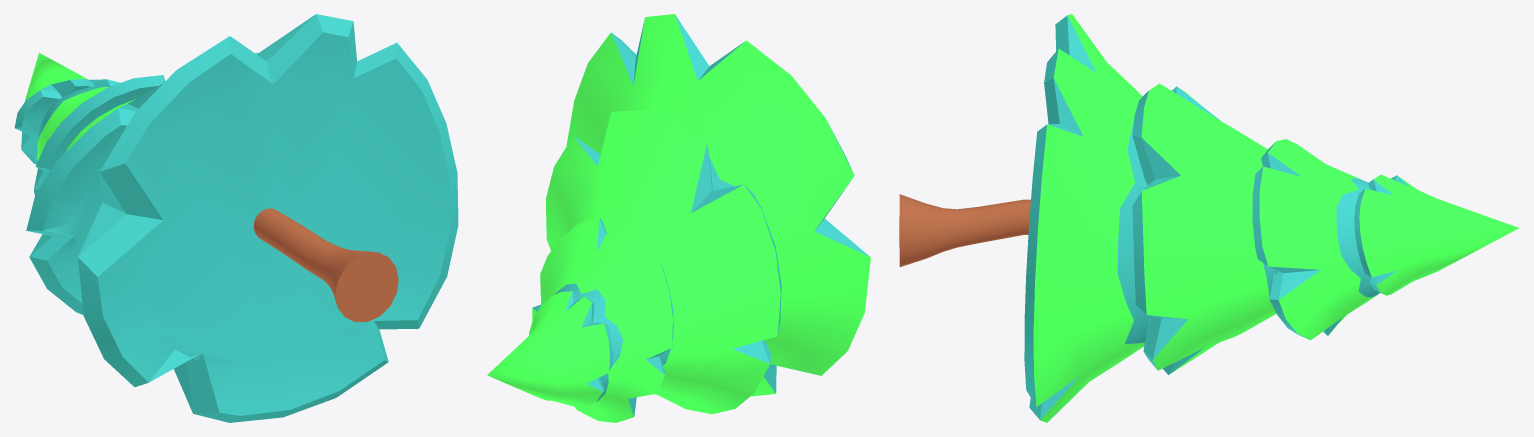
File: finalTree_01.fbx
3 views of the same model, side by side, from view 1: azimuth 30°, elevation 25°; view 2: azimuth 150°, elevation 25°; view 3: azimuth 270°, elevation 25° (orthographic). The views are drawn at different scales.
Parts seen in each view (by area): view 1: finalTree_01; view 2: finalTree_01; view 3: finalTree_01.
Boxes of the visible parts, x1,y1,x2,y2 form: finalTree_01: [14, 14, 458, 422]; finalTree_01: [487, 14, 870, 422]; finalTree_01: [899, 14, 1518, 422].
Bounding box in the file's own units: 2339 × 2484 × 3692.
